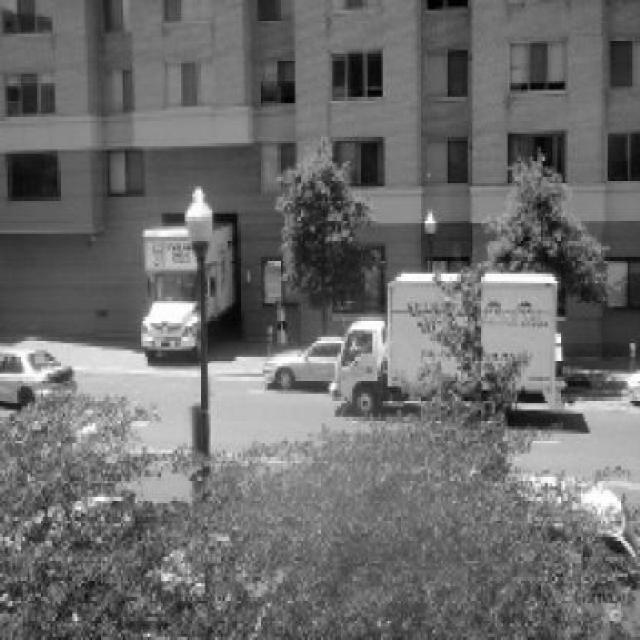Box Truck: (328, 273, 568, 418), (141, 225, 238, 361)
